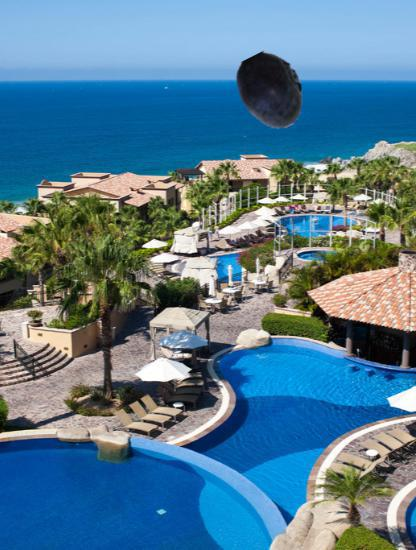Blueberry: (232, 52, 311, 131)
